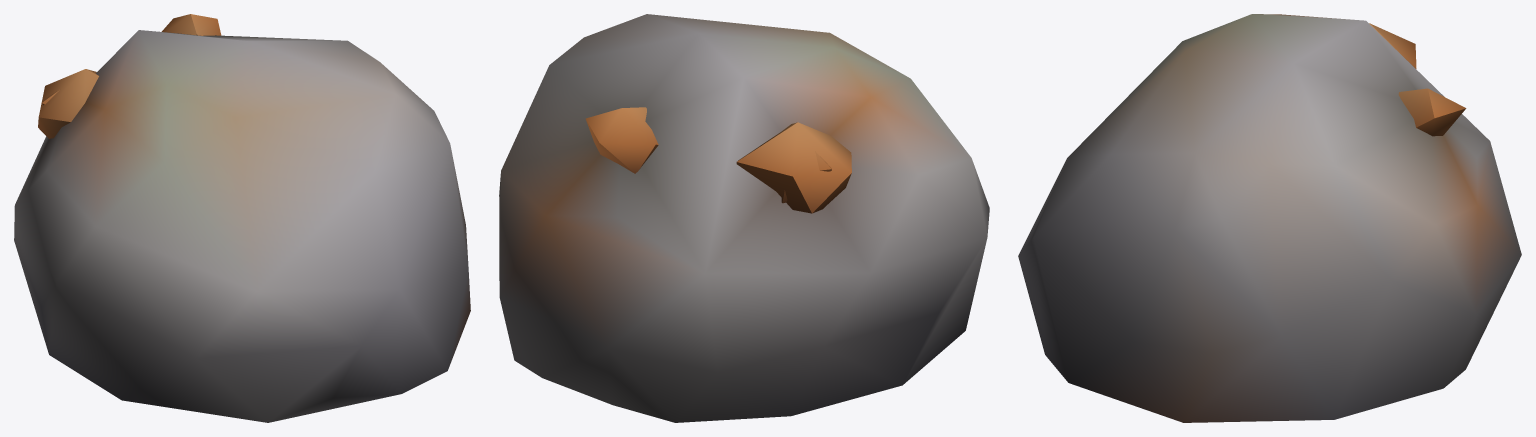
Rendered from node-copperVein-low.glb.
3 views of the same model, side by side, from view 1: azimuth 30°, elevation 25°; view 2: azimuth 150°, elevation 25°; view 3: azimuth 270°, elevation 25° (orthographic). The views are drawn at different scales.
Visible parts, largest first — view 1: 0_vein; view 2: 0_vein; view 3: 0_vein.
Part boxes in pixels (x1,y1,x2,y2): 0_vein: (14,14,470,422); 0_vein: (499,14,989,422); 0_vein: (1018,14,1521,422).
Size of the model in its own units: 1.93 by 1.25 by 2.03.
